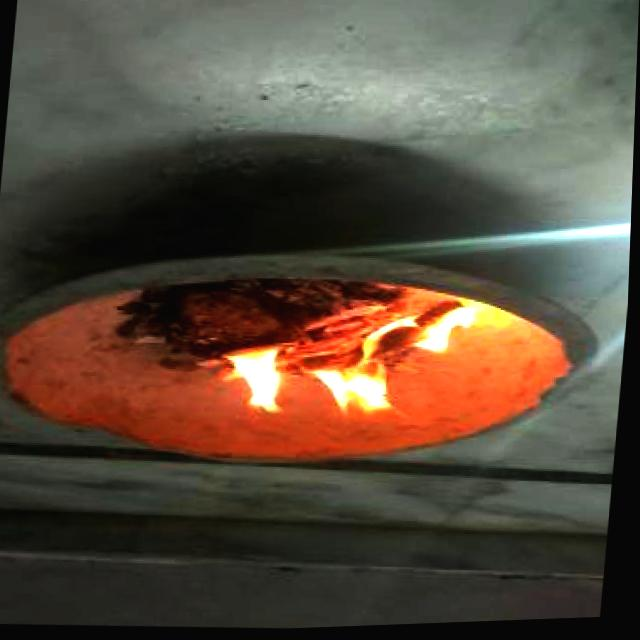Fire: (226, 287, 504, 441)
